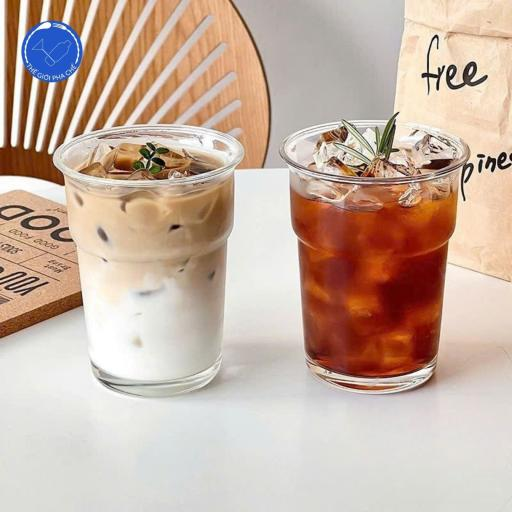cup: (280, 114, 469, 392), (54, 124, 243, 395)
